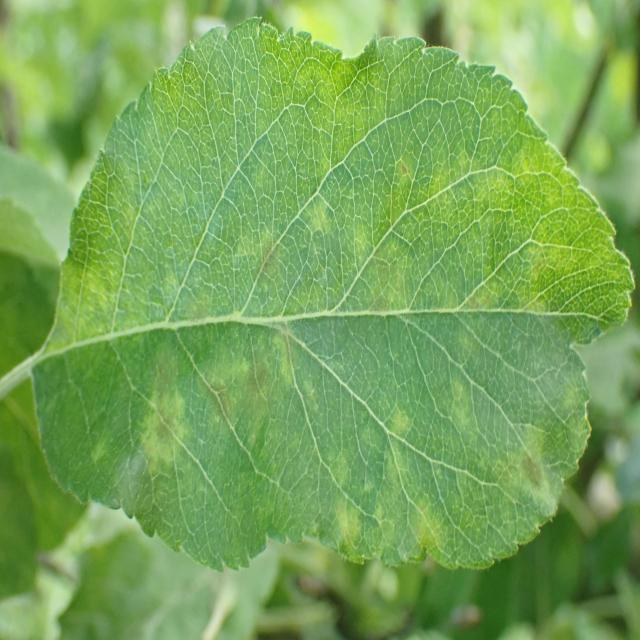scab: (35, 106, 605, 554)
